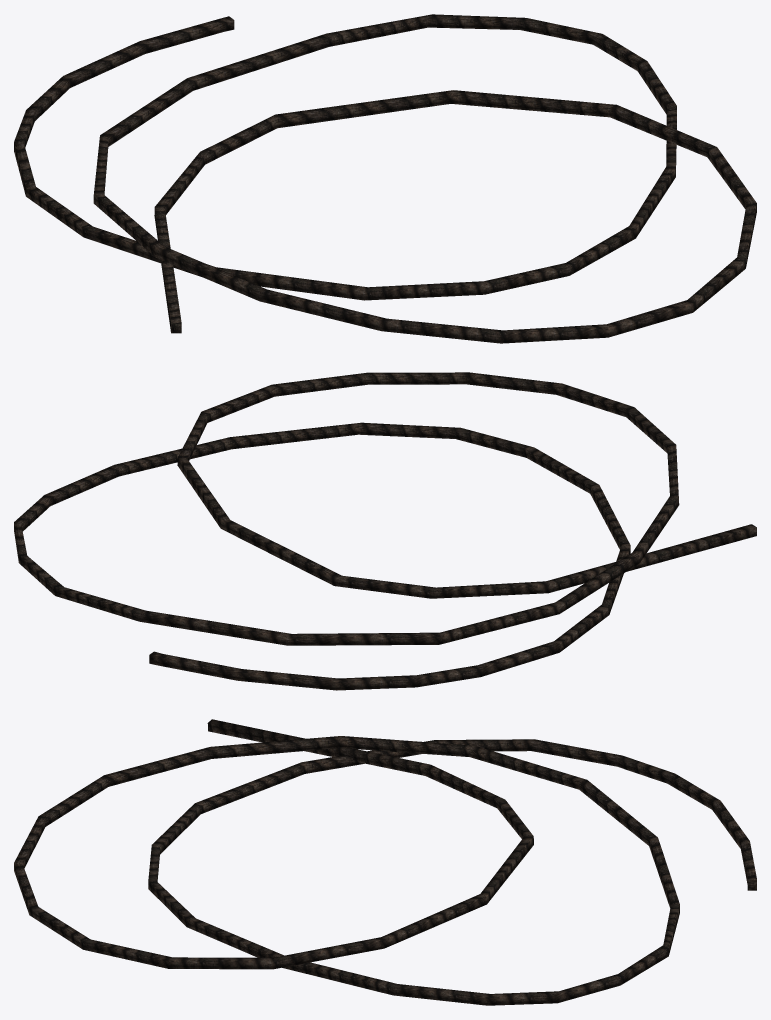
The model's file is rope_ground_e_1_lod0_lod0.glb.
3 renders of one model, top to bottom at view 1: azimuth 30°, elevation 25°; view 2: azimuth 150°, elevation 25°; view 3: azimuth 270°, elevation 25°, orthographic. The views are drawn at different scales.
Visible parts, largest first — view 1: surf0; view 2: surf0; view 3: surf0.
Part boxes in pixels (x1,y1,x2,y2): surf0: [14, 14, 756, 343]; surf0: [14, 372, 756, 690]; surf0: [14, 719, 756, 1005].
Size of the model in its own units: 105 by 5.11 by 121.
